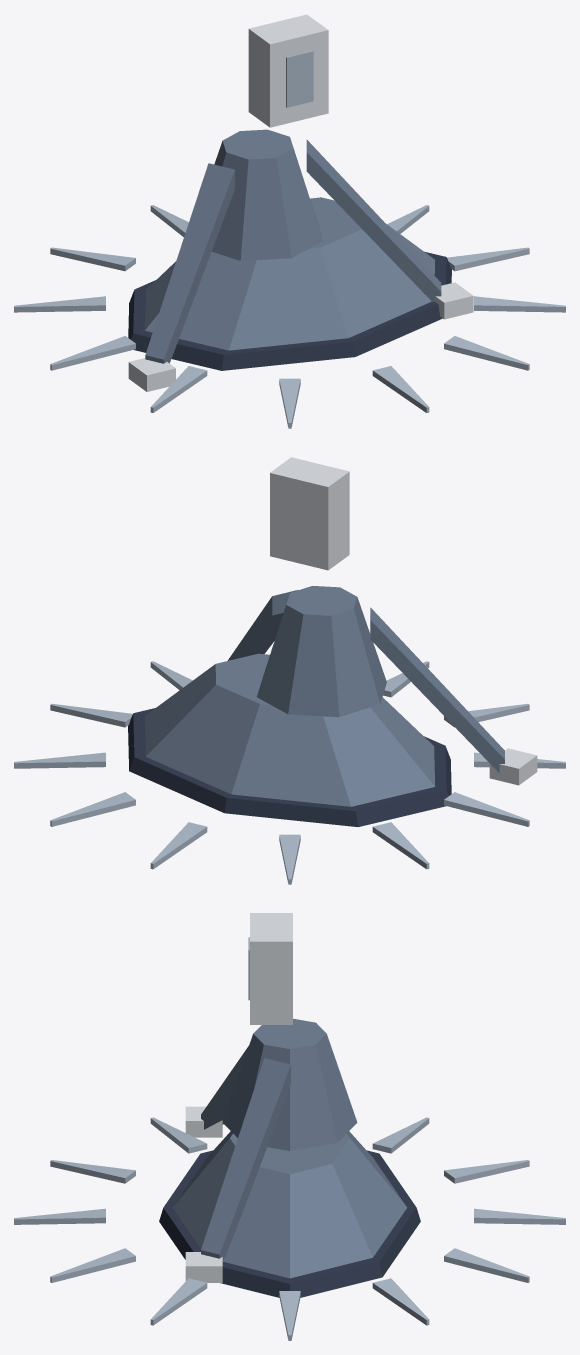
Rendered from Unbound_uv.glb.
The picture shows the model from 3 angles, top to bottom: view 1: azimuth 30°, elevation 25°; view 2: azimuth 150°, elevation 25°; view 3: azimuth 270°, elevation 25°; orthographic projection.
Visible parts, largest first — view 1: Unbound; view 2: Unbound; view 3: Unbound.
Boxes of the visible parts, bbox=[...] form: Unbound: bbox=[14, 14, 565, 428]; Unbound: bbox=[14, 457, 565, 884]; Unbound: bbox=[14, 913, 565, 1340].
Bounding box in the file's own units: 9 × 5.25 × 9.
1 material, 1 textured.
